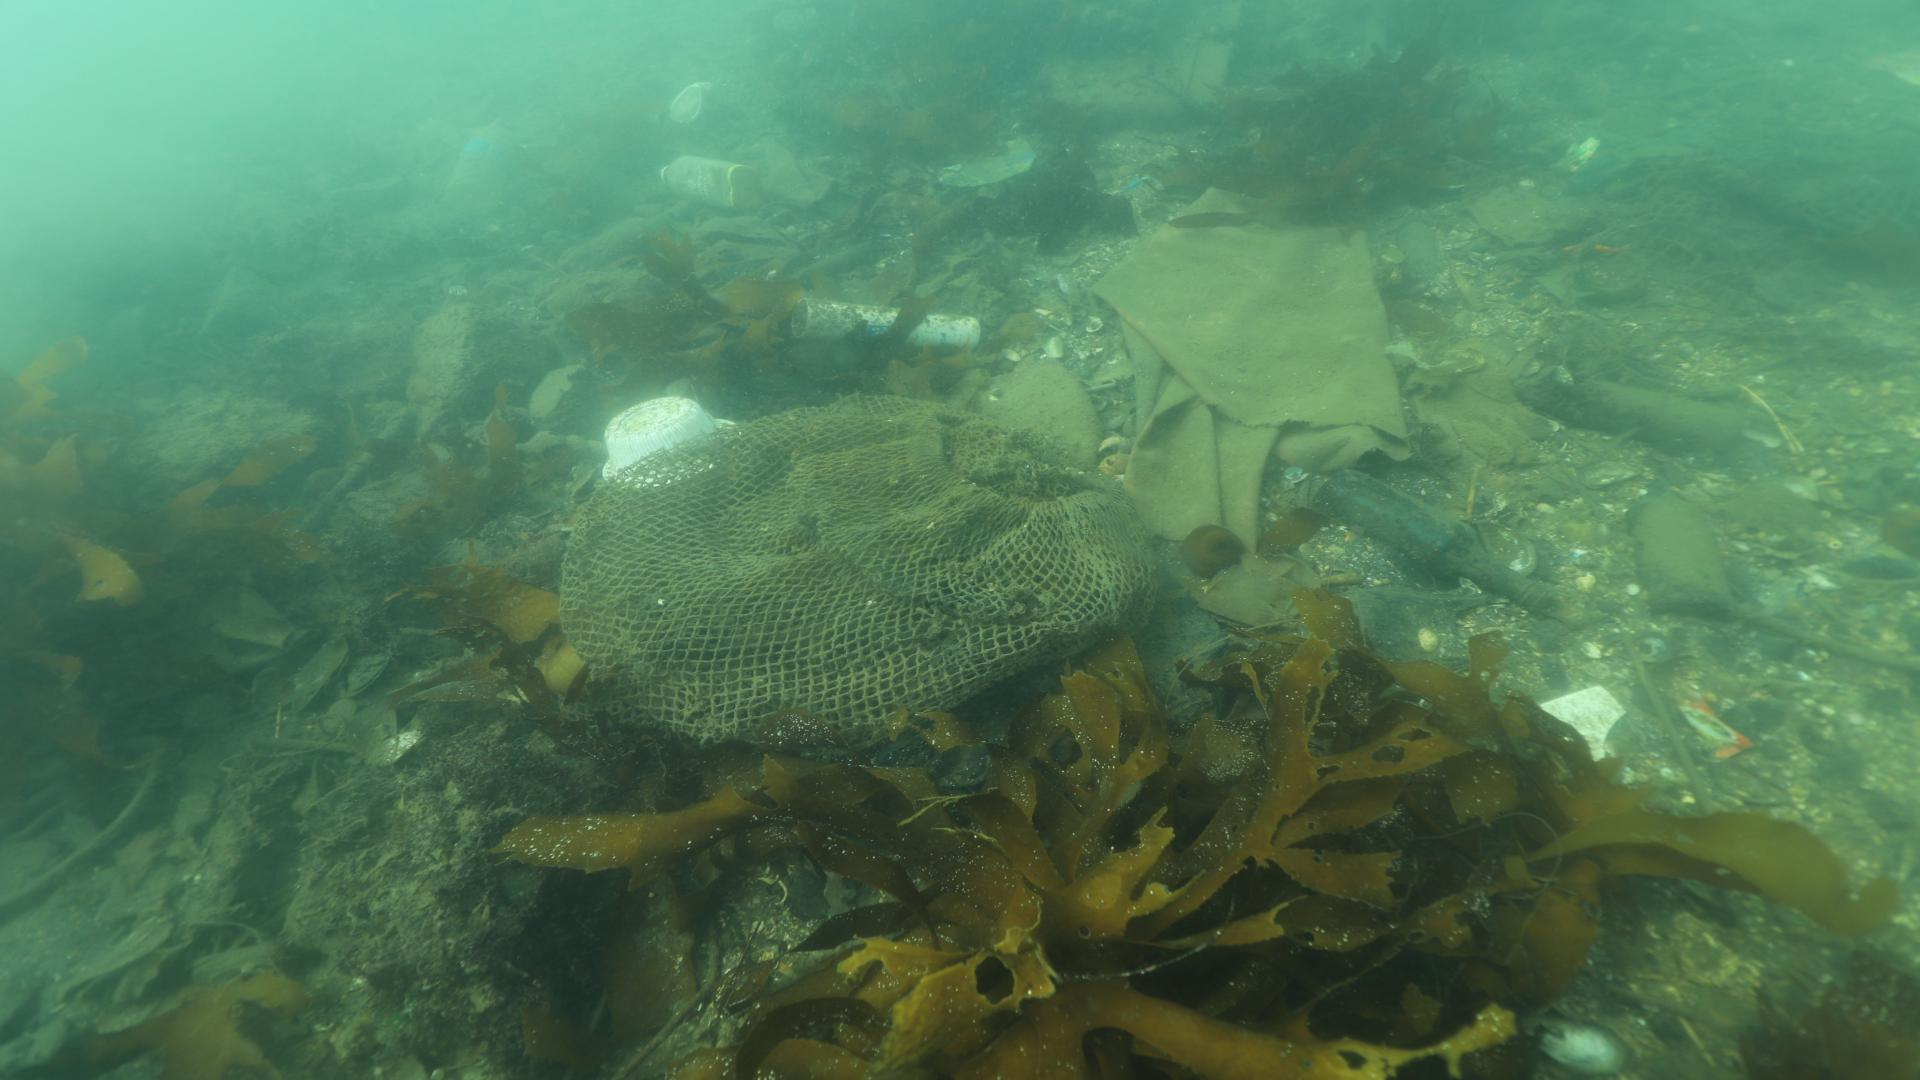fish net: (558, 393, 1156, 737)
